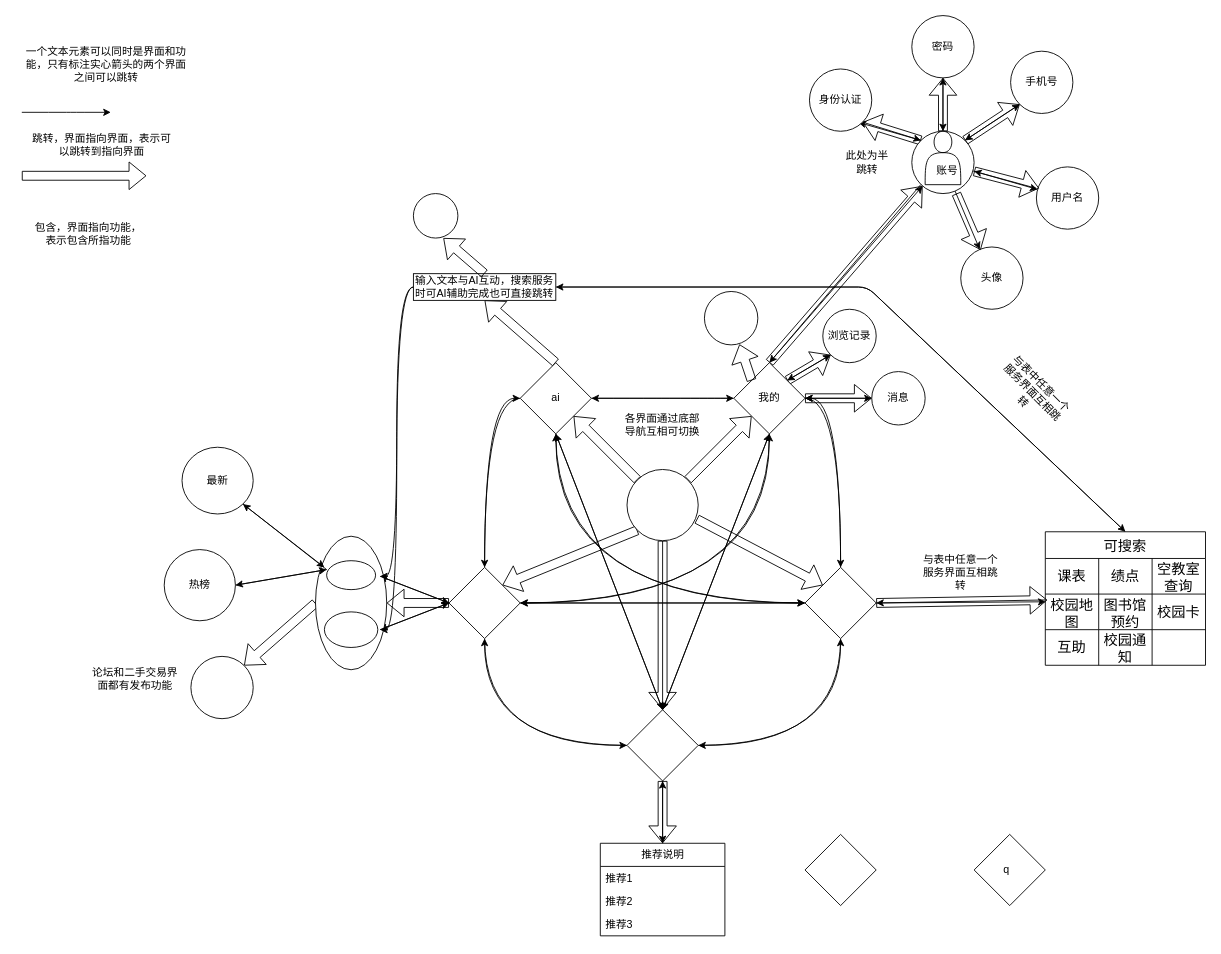
This 1221x954 diagram has some shape labels left out. Here are the shapes that lost their labels. From the top down, the centre of each, then its label:
the point at 435,215: 功能提示
the point at 731,318: 发帖，回复
the point at 662,505: 校捷通
the point at 351,575: 论坛
the point at 484,602: 社区
the point at 840,602: 服务
the point at 351,629: 二手交易
the point at 221,687: 发布
the point at 662,745: 首页
